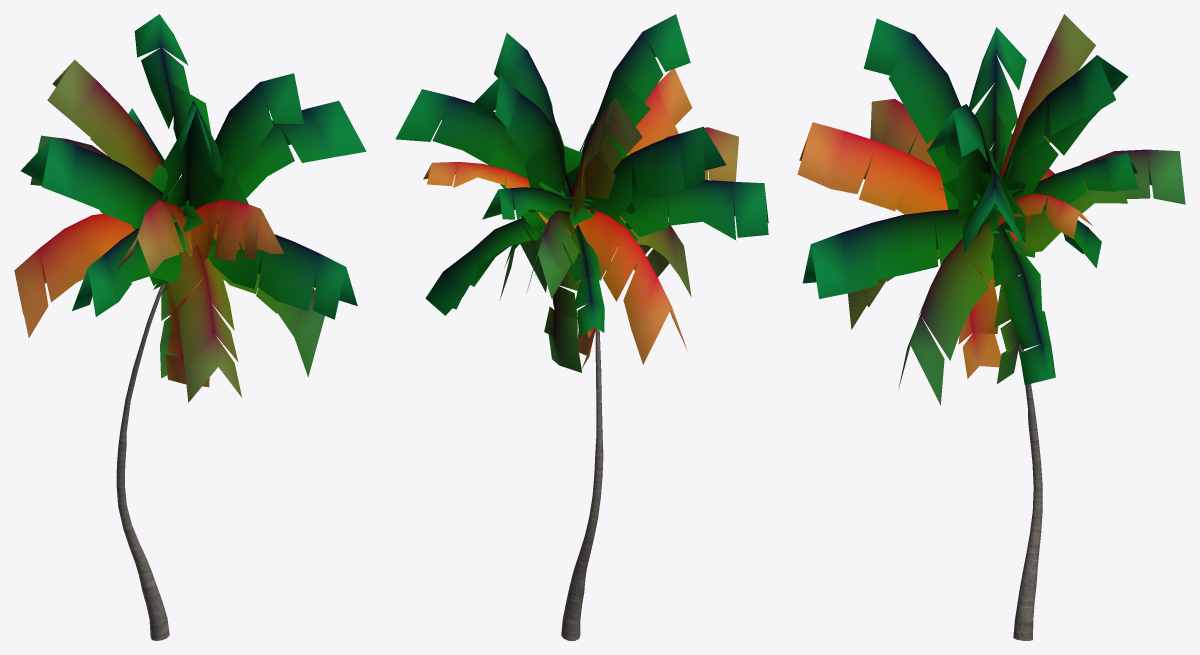
The model's file is Coconut_Palm_Tree3_afsTREE_xlprl.fbx.
3 renders of one model, left to right at view 1: azimuth 30°, elevation 25°; view 2: azimuth 150°, elevation 25°; view 3: azimuth 270°, elevation 25°, orthographic. The views are drawn at different scales.
Visible parts, largest first — view 1: branch01_xw14_xt24_xp07, branch19_xw22_xt28_xp02, branch02_xw14_xt20, branch08_xw18_xt22_xp10, branch11_xw14_xt20, branch21_xw18_xt28_xp06, branch10_xw14_xt32_xp10, branch17_xw14_xt30, branch12_xw14_xt30_xp03, branch18_xw16_xt28_xp04, branch09_xw12_xt20_xp01, trunk_xw14 (+5 smaller); view 2: branch19_xw22_xt28_xp02, branch08_xw18_xt22_xp10, branch09_xw12_xt20_xp01, branch11_xw14_xt20, branch12_xw14_xt30_xp03, branch17_xw14_xt30, branch21_xw18_xt28_xp06, branch04_xw19_xt28_xp02, trunk_xw14, branch18_xw16_xt28_xp04, branch14_xw14_xt28, branch06_xw16_xt28_xp10 (+8 smaller); view 3: branch02_xw14_xt20, branch18_xw16_xt28_xp04, branch12_xw14_xt30_xp03, branch03_xw14_xt20, branch17_xw14_xt30, branch04_xw19_xt28_xp02, branch14_xw14_xt28, branch19_xw22_xt28_xp02, branch10_xw14_xt32_xp10, branch21_xw18_xt28_xp06, trunk_xw14, branch15_xw25_xt35_xp09 (+8 smaller).
Boxes of the visible parts, x1=… form: branch01_xw14_xt24_xp07: x1=169, y1=244, x2=241, y2=402; branch19_xw22_xt28_xp02: x1=21, y1=138, x2=181, y2=253; branch02_xw14_xt20: x1=208, y1=221, x2=357, y2=319; branch08_xw18_xt22_xp10: x1=14, y1=213, x2=134, y2=337; branch11_xw14_xt20: x1=226, y1=101, x2=366, y2=204; branch21_xw18_xt28_xp06: x1=47, y1=60, x2=164, y2=182; branch10_xw14_xt32_xp10: x1=215, y1=73, x2=303, y2=199; branch17_xw14_xt30: x1=162, y1=100, x2=224, y2=221; branch12_xw14_xt30_xp03: x1=134, y1=14, x2=211, y2=174; branch18_xw16_xt28_xp04: x1=186, y1=199, x2=284, y2=260; branch09_xw12_xt20_xp01: x1=72, y1=222, x2=181, y2=316; trunk_xw14: x1=116, y1=284, x2=169, y2=640; branch19_xw22_xt28_xp02: x1=583, y1=126, x2=726, y2=220; branch08_xw18_xt22_xp10: x1=567, y1=205, x2=687, y2=364; branch09_xw12_xt20_xp01: x1=617, y1=180, x2=768, y2=246; branch11_xw14_xt20: x1=395, y1=89, x2=546, y2=233; branch12_xw14_xt30_xp03: x1=468, y1=75, x2=572, y2=214; branch17_xw14_xt30: x1=579, y1=14, x2=690, y2=164; branch21_xw18_xt28_xp06: x1=571, y1=97, x2=642, y2=217; branch04_xw19_xt28_xp02: x1=425, y1=217, x2=562, y2=315; trunk_xw14: x1=561, y1=328, x2=603, y2=640; branch18_xw16_xt28_xp04: x1=626, y1=68, x2=692, y2=156; branch14_xw14_xt28: x1=526, y1=210, x2=582, y2=298; branch06_xw16_xt28_xp10: x1=544, y1=261, x2=581, y2=372; branch02_xw14_xt20: x1=802, y1=209, x2=972, y2=298; branch18_xw16_xt28_xp04: x1=797, y1=122, x2=948, y2=214; branch12_xw14_xt30_xp03: x1=977, y1=55, x2=1128, y2=236; branch03_xw14_xt20: x1=898, y1=223, x2=1018, y2=405; branch17_xw14_xt30: x1=863, y1=18, x2=960, y2=209; branch04_xw19_xt28_xp02: x1=991, y1=223, x2=1055, y2=384; branch14_xw14_xt28: x1=1017, y1=149, x2=1185, y2=253; branch19_xw22_xt28_xp02: x1=969, y1=27, x2=1026, y2=170; branch10_xw14_xt32_xp10: x1=927, y1=104, x2=1008, y2=228; branch21_xw18_xt28_xp06: x1=1000, y1=14, x2=1095, y2=176; trunk_xw14: x1=1011, y1=319, x2=1042, y2=640; branch15_xw25_xt35_xp09: x1=1003, y1=153, x2=1138, y2=233.
Bounding box in the file's own units: 10.42 × 18.23 × 10.62.
